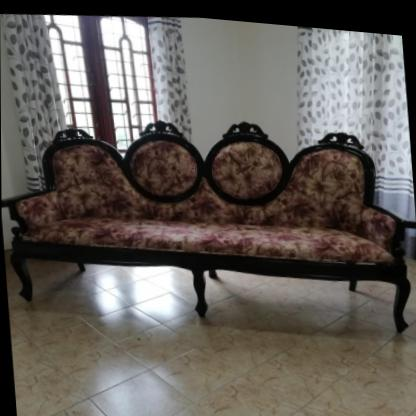Ceramic floor: (6, 279, 416, 416)
Sofa: (1, 89, 413, 352)
